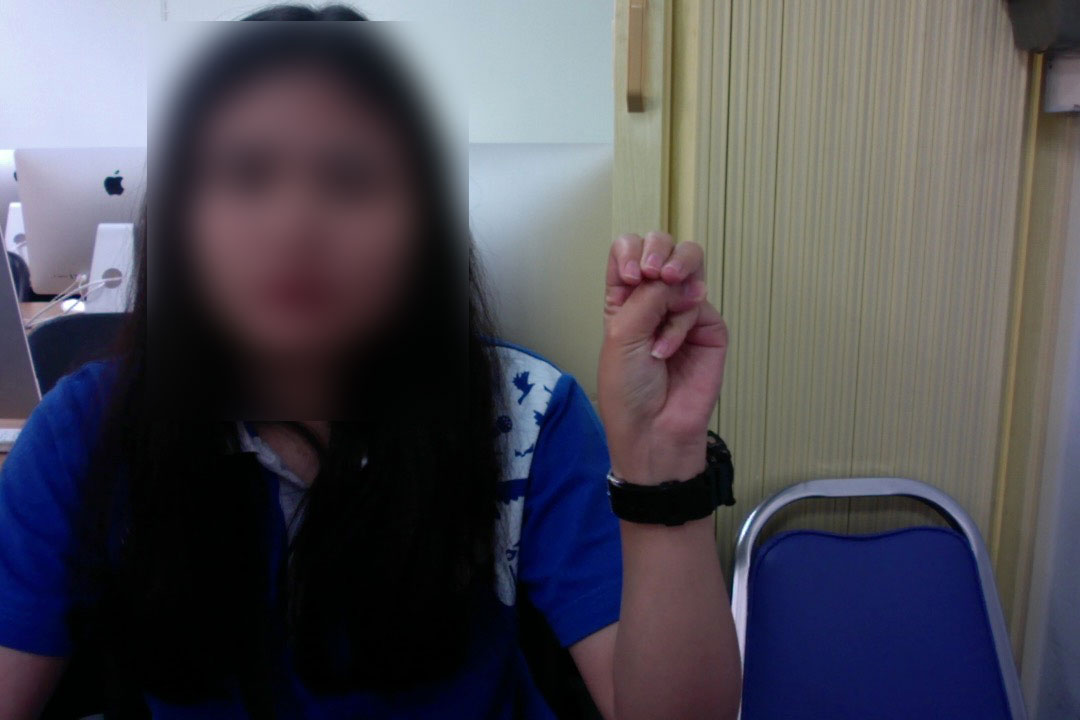mor: (588, 217, 736, 467)
